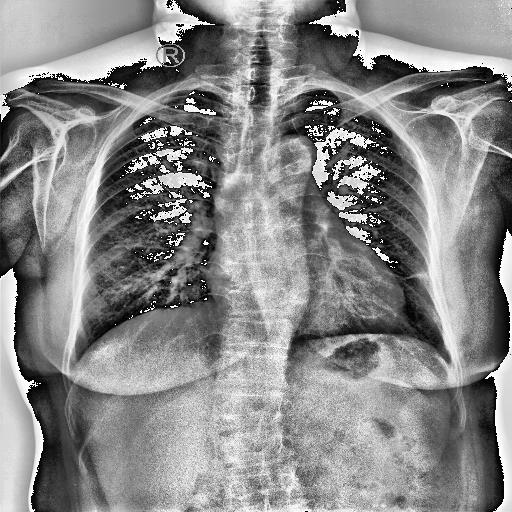0- Aortic enlargement: (264, 134, 317, 180), (270, 134, 318, 179)
13- Pulmonary fibrosis: (407, 268, 430, 283), (400, 272, 434, 282), (404, 270, 429, 282)
3- Cardiomegaly: (204, 260, 402, 338), (206, 253, 405, 329), (200, 268, 410, 332)
